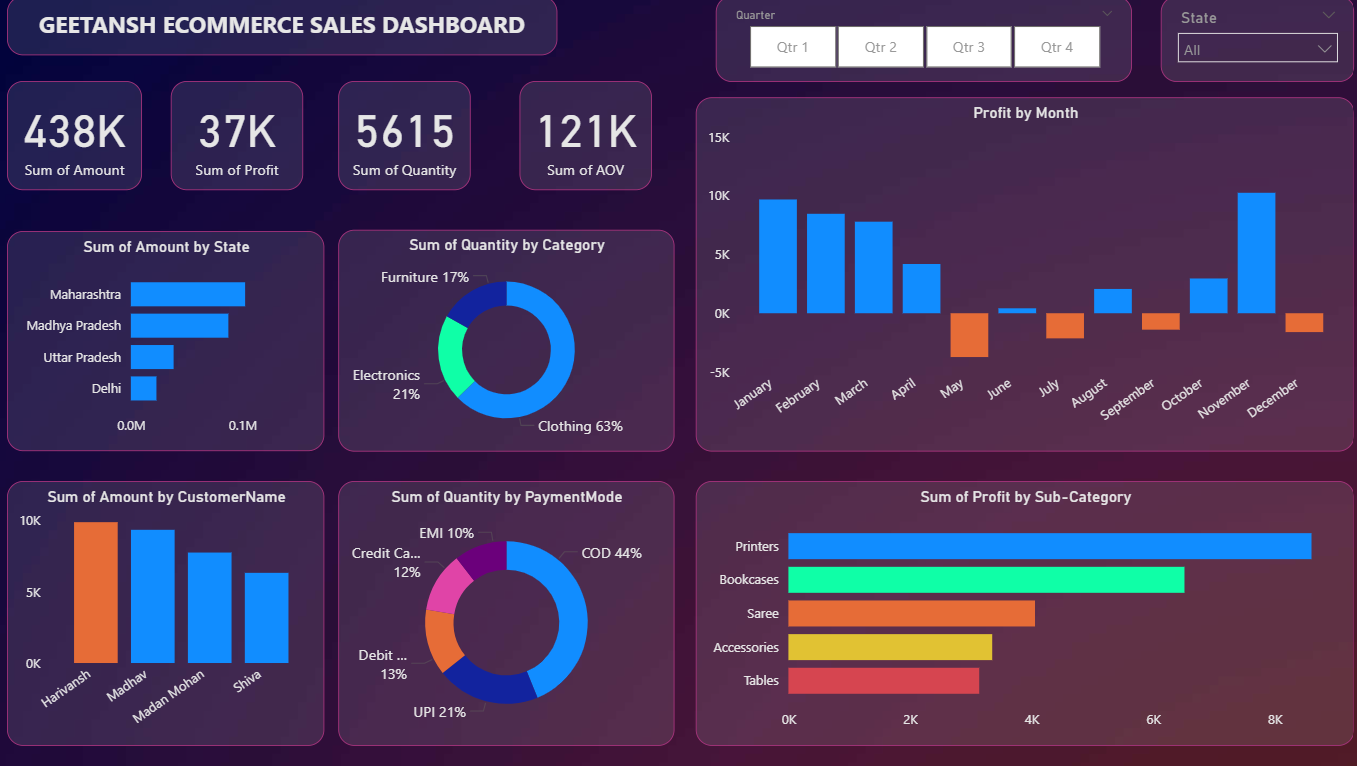

Layout of this report page (visuals, bound fields, positions):
{"tool":"powerbi","page":{"name":"Page 1","canvas":[1280,720],"ordinal":0},"visuals":[{"type":"textbox","box":[9.6,0,511.8,54.9],"z":0},{"type":"columnChart","title":"Profit by Month","fields":{"Category":["Orders.Order Date.Variation.Date Hierarchy.Month"],"Y":["Details.Profit"]},"box":[650.3,94.1,612.9,329.4],"z":1000},{"type":"barChart","fields":{"Category":["Details.Sub-Category"],"Y":["Details.Profit"]},"box":[650.3,451.2,612.9,246.1],"z":2000},{"type":"donutChart","fields":{"Category":["Details.Category"],"Y":["Details.Quantity"]},"box":[317.3,217.2,312.5,206.3],"z":3000},{"type":"donutChart","fields":{"Y":["Details.Quantity"],"Category":["Details.PaymentMode"]},"box":[317.3,451.2,312.5,246.1],"z":4000},{"type":"card","fields":{"Values":["Details.Amount"]},"box":[9.7,79.6,125.5,101.3],"z":5000},{"type":"card","fields":{"Values":["Details.Profit"]},"box":[161.7,79.6,123.1,101.3],"z":6000},{"type":"card","fields":{"Values":["Details.Quantity"]},"box":[317.3,79.6,123.1,101.3],"z":7000},{"type":"card","fields":{"Values":["Details.AOV"]},"box":[486.2,79.6,123.1,101.3],"z":8000},{"type":"barChart","fields":{"Category":["Orders.State"],"Y":["Details.Amount"]},"box":[9.7,218.4,295.6,205.1],"z":9000},{"type":"columnChart","fields":{"Category":["Orders.CustomerName"],"Y":["Details.Amount"]},"box":[9.7,451.2,295.6,246.1],"z":10000},{"type":"slicer","fields":{"Values":["Orders.Order Date.Variation.Date Hierarchy.Quarter"]},"box":[668.4,0,387.3,79.6],"z":11000},{"type":"slicer","fields":{"Values":["Orders.State"]},"box":[1082.2,0,181,79.6],"z":12000}]}

Visuals, with their boxes in screenshot pixels (x1, y1, x2, y2), scaled from the page's 1280x720 canvas onto the 1357x766 screenshot:
textbox: (10, 0, 553, 58)
"Profit by Month" columnChart: (689, 100, 1339, 451)
barChart - Details.Sub-Category x Details.Profit: (689, 480, 1339, 742)
donutChart - Details.Category x Details.Quantity: (336, 231, 668, 451)
donutChart - Details.Quantity x Details.PaymentMode: (336, 480, 668, 742)
card - Details.Amount: (10, 85, 143, 192)
card - Details.Profit: (171, 85, 302, 192)
card - Details.Quantity: (336, 85, 467, 192)
card - Details.AOV: (515, 85, 646, 192)
barChart - Orders.State x Details.Amount: (10, 232, 324, 451)
columnChart - Orders.CustomerName x Details.Amount: (10, 480, 324, 742)
slicer - Orders.Order Date.Variation.Date Hierarchy.Quarter: (709, 0, 1119, 85)
slicer - Orders.State: (1147, 0, 1339, 85)
